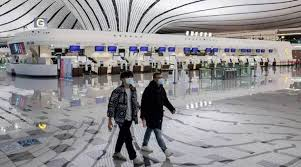mask: (120, 70, 135, 84), (152, 72, 164, 84)
